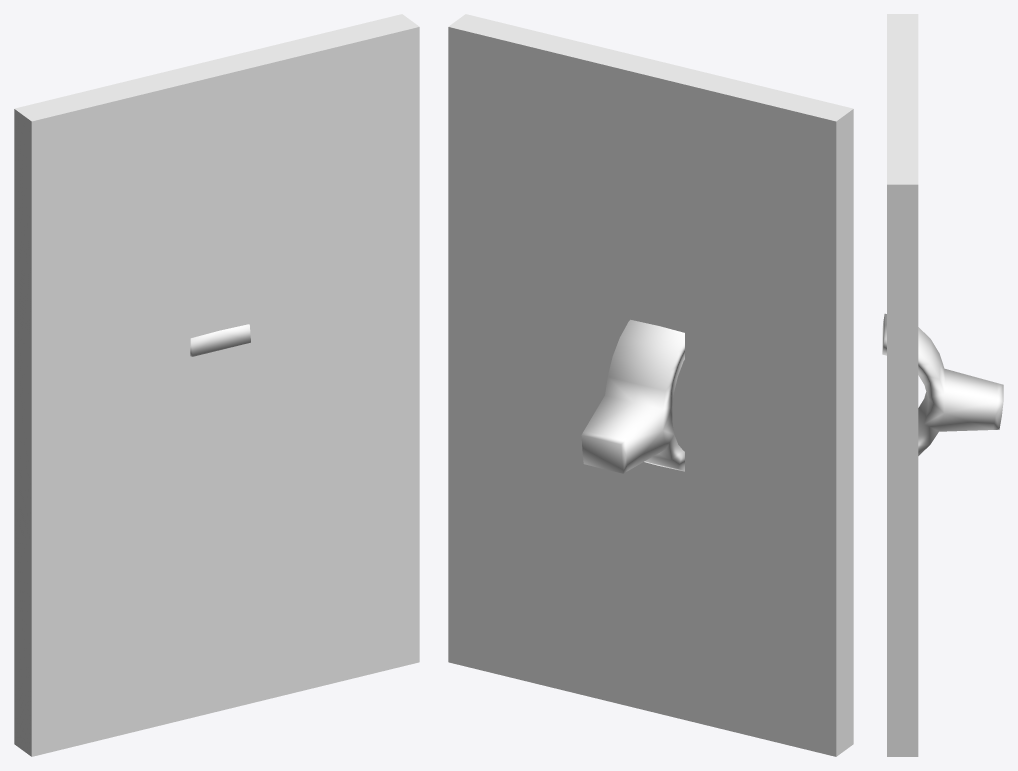
File: swich.obj
3 renders of one model, left to right at view 1: azimuth 30°, elevation 25°; view 2: azimuth 150°, elevation 25°; view 3: azimuth 270°, elevation 25°, orthographic. The views are drawn at different scales.
Visible parts, largest first — view 1: swich; view 2: swich; view 3: swich.
Boxes of the visible parts, bbox=[...] form: swich: bbox=[14, 14, 419, 756]; swich: bbox=[448, 14, 853, 756]; swich: bbox=[882, 14, 1003, 756].
Size of the model in its own units: 0.5384 by 0.8425 by 0.1618.
Materials: 1 (1 with a texture image).
